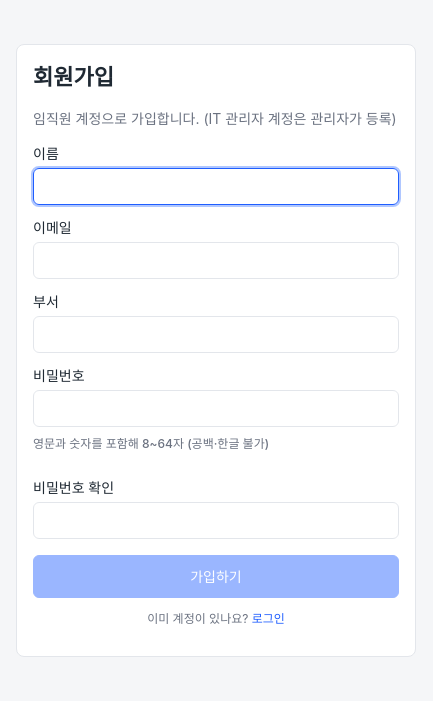
Test: 회원가입 화면 › 서버가 거절하면(이메일 중복 등) 서버 메시지를 보여준다
Step 1. Type "신입" into the field labelled "이름" → (216, 186), box x1=33 y1=168 x2=399 y2=204
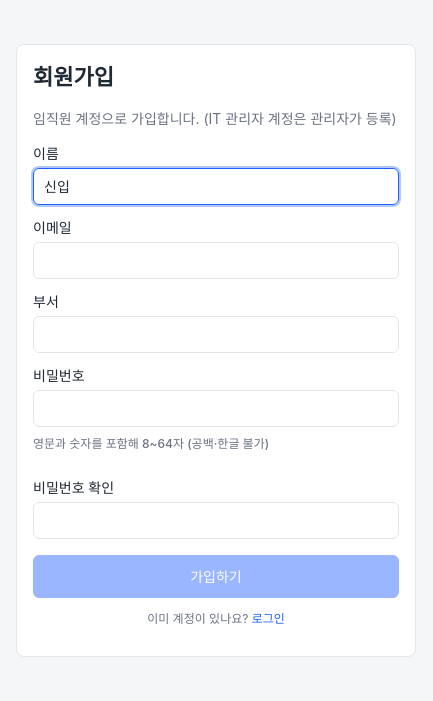
Step 2. Type "new@daon.example" into the field labelled "이메일" → (216, 260), box x1=33 y1=242 x2=399 y2=278
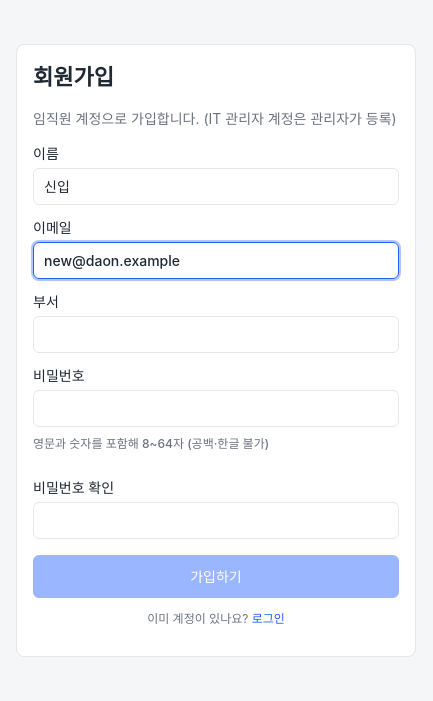
Step 3. Type "password1" into the password field labelled "비밀번호" → (216, 408), box x1=33 y1=390 x2=399 y2=426
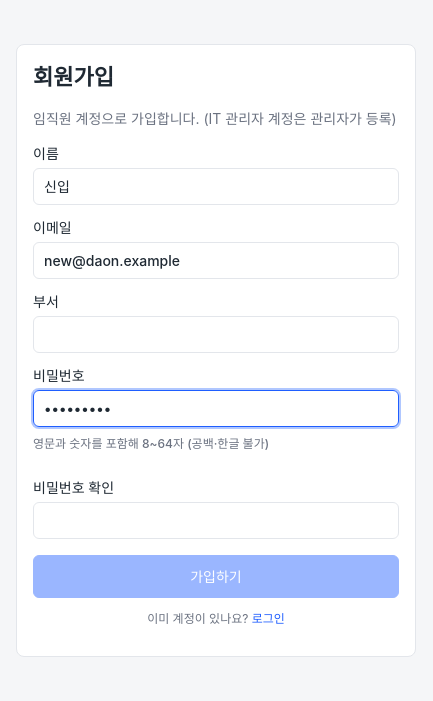
Step 4. Type "password1" into the password field labelled "비밀번호 확인" → (216, 520), box x1=33 y1=502 x2=399 y2=538
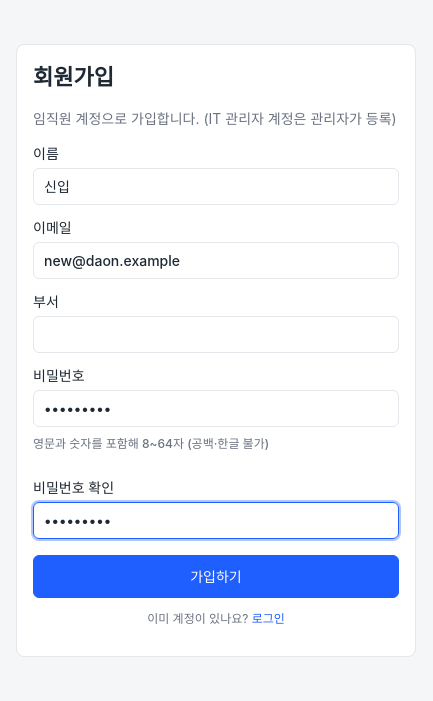
Step 5. Click the button "가입하기" → (216, 576), box x1=33 y1=554 x2=399 y2=598
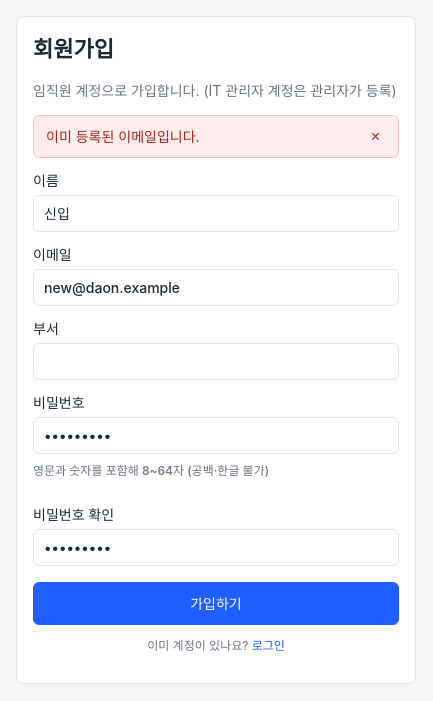
Expected: the message shows "이미 등록된 이메일입니다.", x1=46 y1=128 x2=200 y2=145
